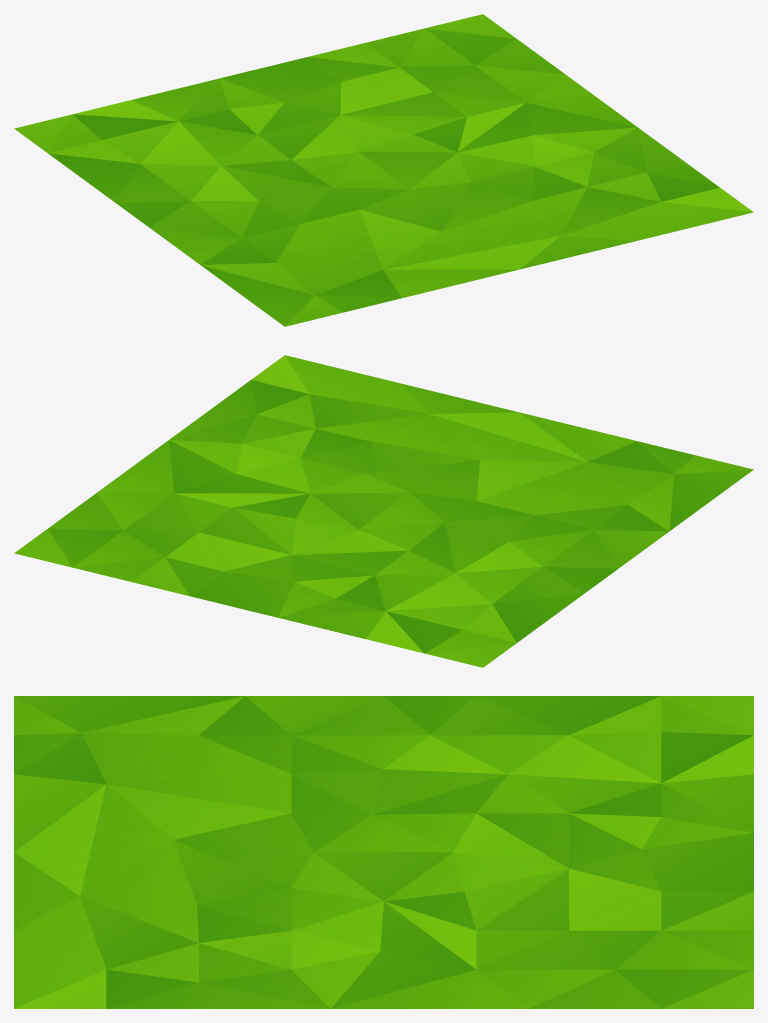
File: GL-Terrain-part-05.fbx
3 renders of one model, top to bottom at view 1: azimuth 30°, elevation 25°; view 2: azimuth 150°, elevation 25°; view 3: azimuth 270°, elevation 25°, orthographic. The views are drawn at different scales.
Parts seen in each view (by area): view 1: GL-Terrain-part-05; view 2: GL-Terrain-part-05; view 3: GL-Terrain-part-05.
Boxes of the visible parts, bbox=[...] form: GL-Terrain-part-05: bbox=[14, 14, 753, 326]; GL-Terrain-part-05: bbox=[14, 355, 753, 667]; GL-Terrain-part-05: bbox=[14, 696, 753, 1008].
Size of the model in its own units: 6 by 0 by 6.
